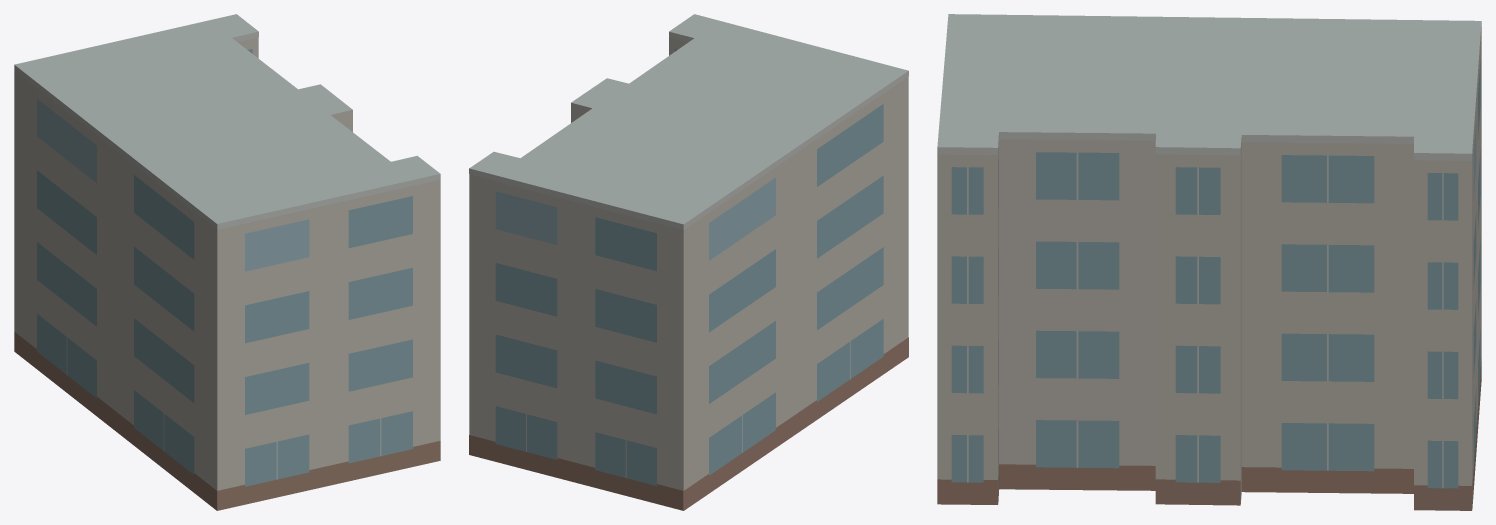
Rendered from survey-upis-32703027.glb.
The picture shows the model from 3 angles, left to right: view 1: azimuth 30°, elevation 25°; view 2: azimuth 150°, elevation 25°; view 3: azimuth 270°, elevation 25°; orthographic projection. The views are drawn at different scales.
Parts seen in each view (by area): view 1: survey-upis-32703027.tmp; view 2: survey-upis-32703027.tmp; view 3: survey-upis-32703027.tmp.
Part boxes in pixels (x1,y1,x2,y2): survey-upis-32703027.tmp: (14,14,440,510); survey-upis-32703027.tmp: (469,14,908,510); survey-upis-32703027.tmp: (937,14,1481,510).
Size of the model in its own units: 10.24 by 12.2 by 16.86.
